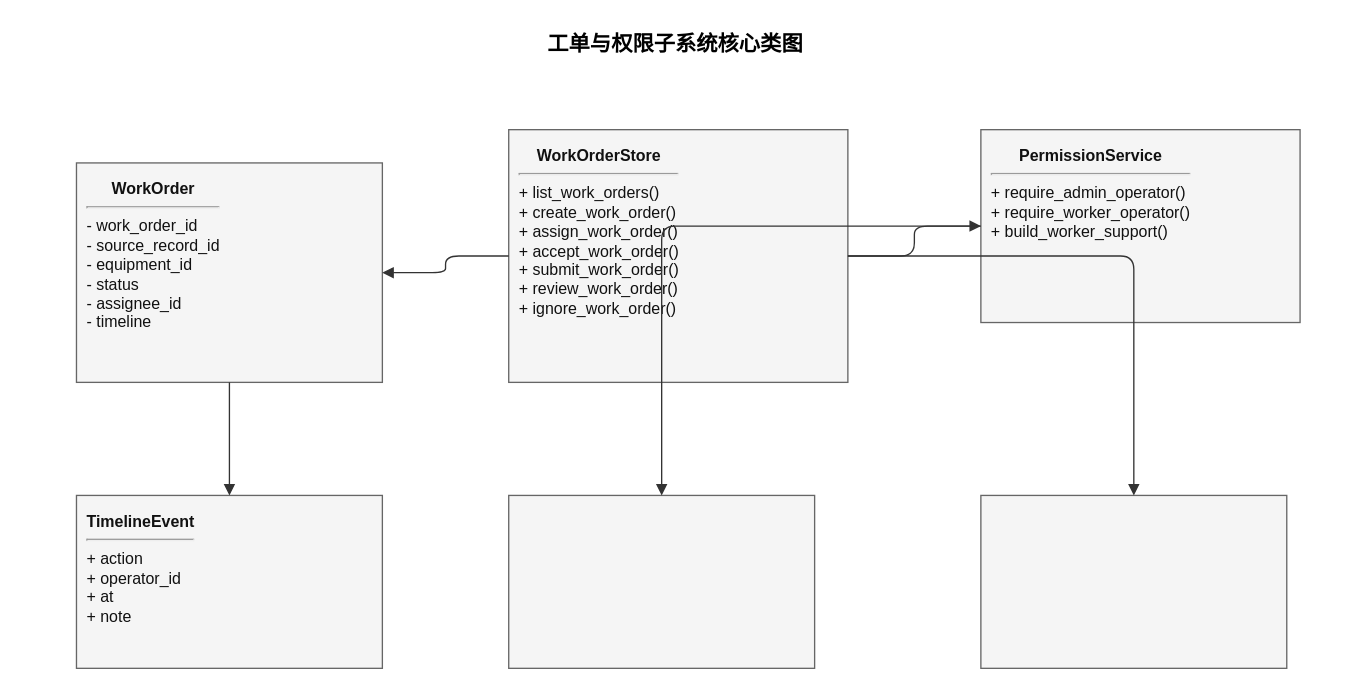
Image size: 1349x692. Some labels were removed from this diagram. The shapes that lost their labels are listed below. From the top down, each one's centre as x and y in pixels, then its label:
(x=661, y=581): WorkerSupport + active_orders + standard_guidance + similar_cases
(x=1133, y=581): SimulationService + register_intervention()
